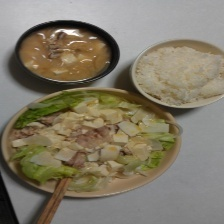sabzi: (13, 20, 117, 86)
